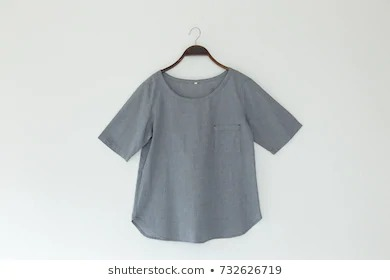S_short blouse: (99, 65, 303, 240)
